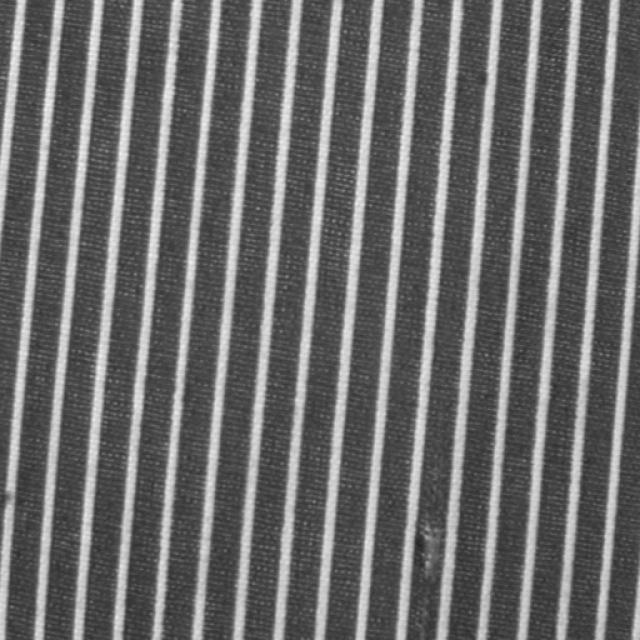Thread-Defect: (406, 512, 445, 639)
